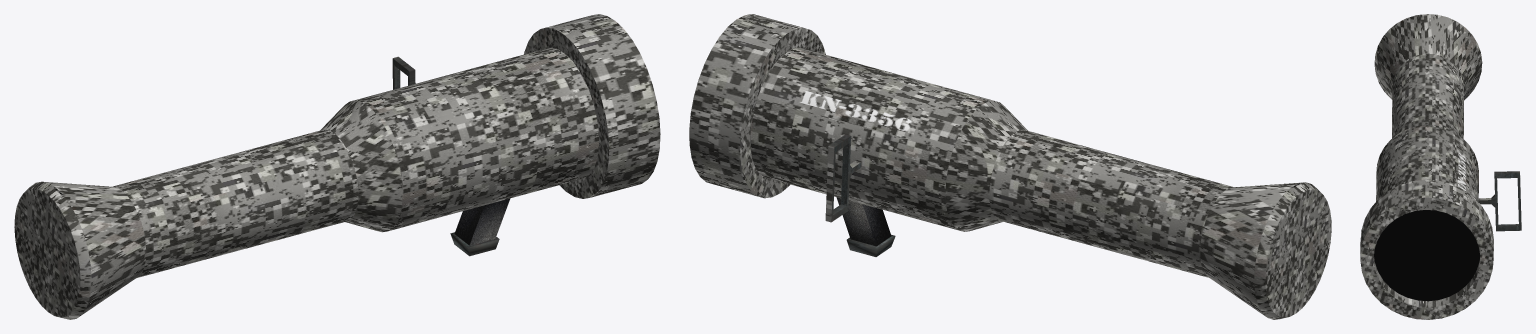
File: launcher_000007.obj
The picture shows the model from 3 angles, left to right: view 1: azimuth 30°, elevation 25°; view 2: azimuth 150°, elevation 25°; view 3: azimuth 270°, elevation 25°; orthographic projection. The views are drawn at different scales.
Visible parts, largest first — view 1: Cylinder; view 2: Cylinder; view 3: Cylinder.
Boxes of the visible parts, x1,y1,x2,y2 form: Cylinder: (14,14,660,319); Cylinder: (689,14,1331,319); Cylinder: (1360,14,1521,319).
Size of the model in its own units: 8.77 by 2.86 by 2.83.
1 material, 1 textured.
